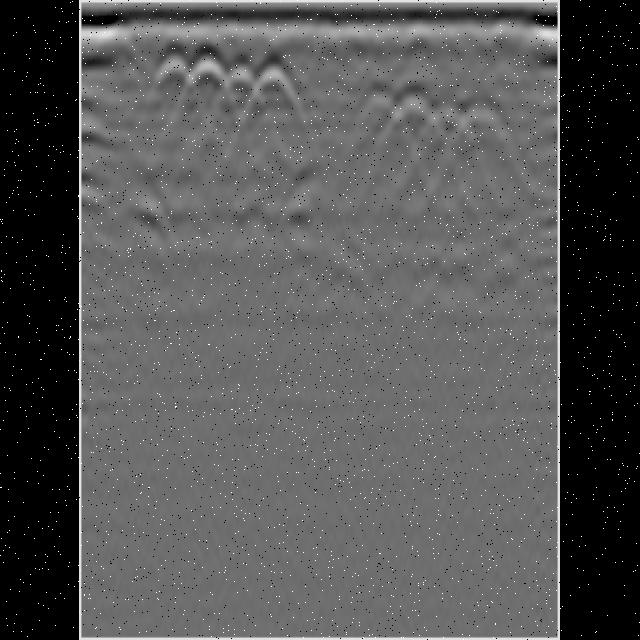hyperbola: (386, 98, 448, 154), (352, 88, 414, 144), (422, 103, 478, 163), (453, 105, 512, 161), (255, 61, 308, 117), (215, 62, 271, 114), (147, 53, 200, 99), (183, 57, 234, 101)
